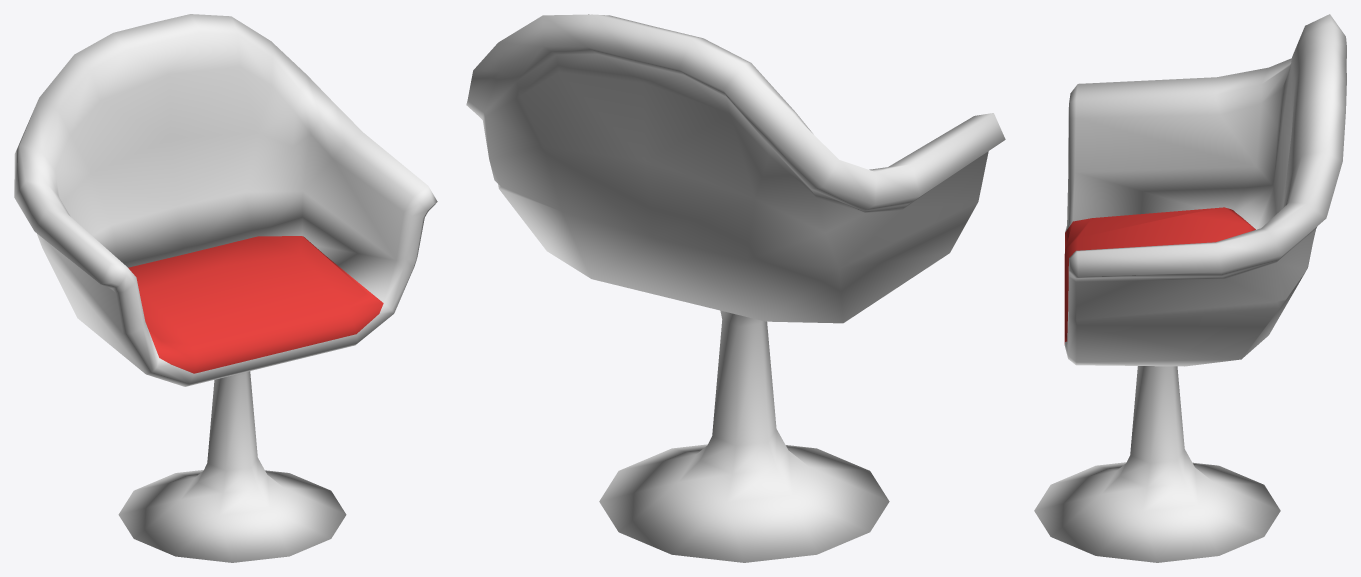
Rendered from chair_053.fbx.
3 views of the same model, side by side, from view 1: azimuth 30°, elevation 25°; view 2: azimuth 150°, elevation 25°; view 3: azimuth 270°, elevation 25° (orthographic). The views are drawn at different scales.
Parts seen in each view (by area): view 1: chair_053; view 2: chair_053; view 3: chair_053.
Part boxes in pixels (box(x1,y1,x2,y2)): chair_053: box(14, 14, 437, 562); chair_053: box(466, 14, 1005, 562); chair_053: box(1034, 14, 1346, 562).
Size of the model in its own units: 101 by 74.67 by 123.
